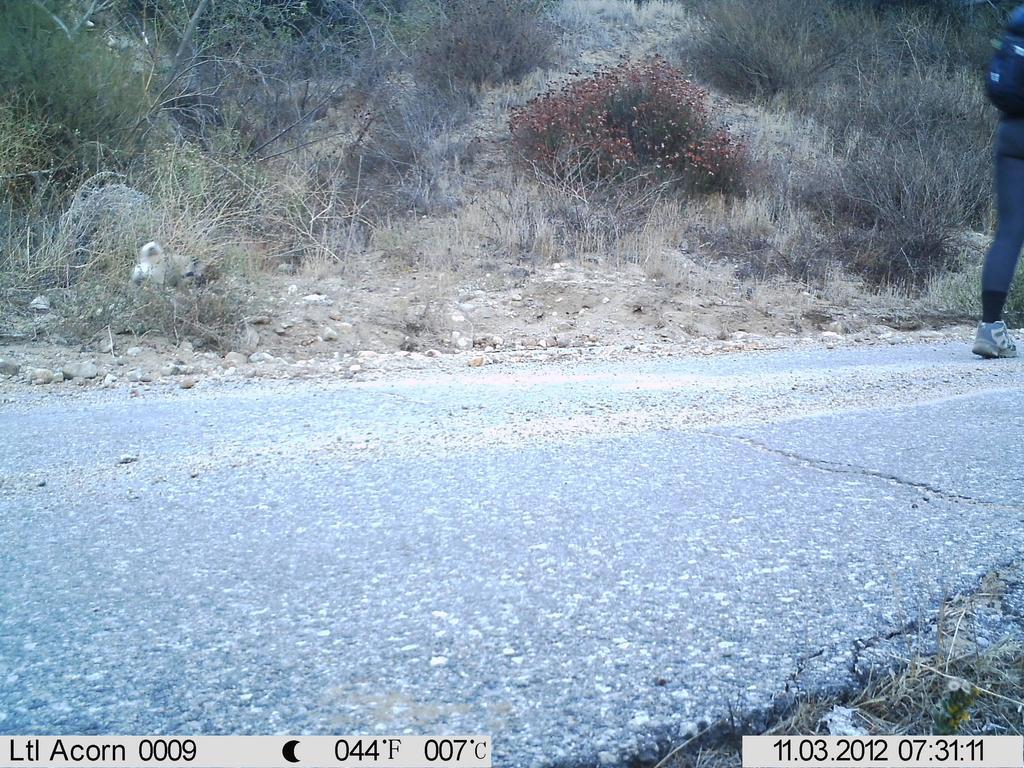dog: (119, 218, 231, 309)
